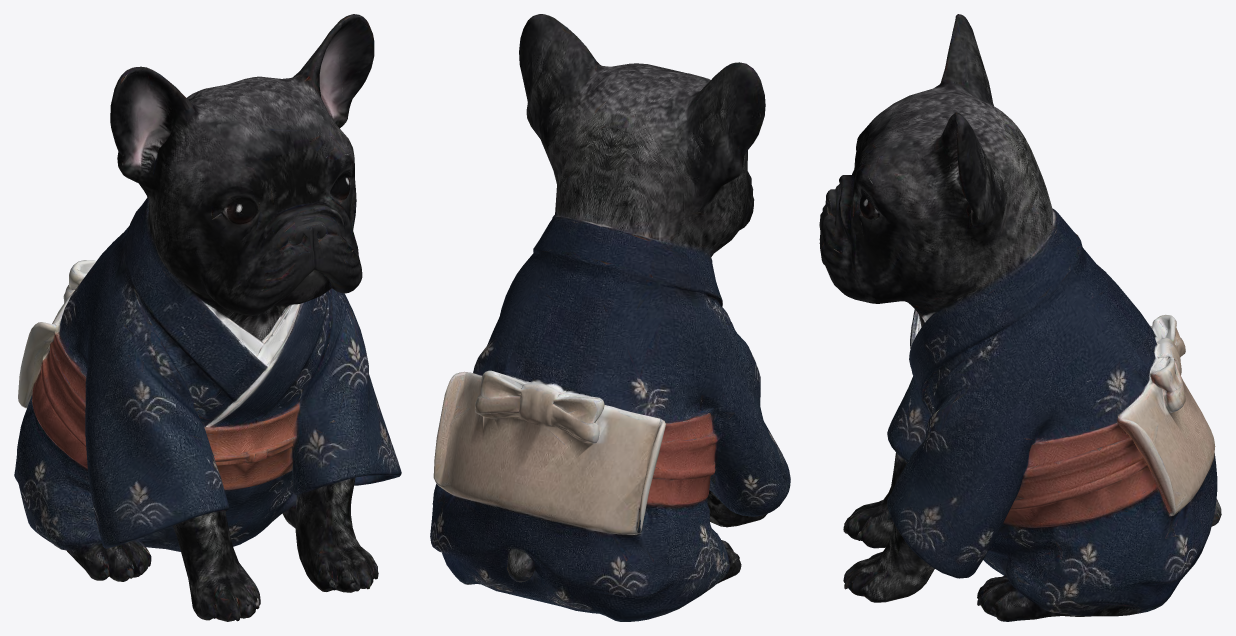
Rendered from costume-kimono_dog-frenchie-black.glb.
3 renders of one model, left to right at view 1: azimuth 30°, elevation 25°; view 2: azimuth 150°, elevation 25°; view 3: azimuth 270°, elevation 25°, orthographic. The views are drawn at different scales.
Parts seen in each view (by area): view 1: Mesh_0; view 2: Mesh_0; view 3: Mesh_0.
Boxes of the visible parts, x1,y1,x2,y2 form: Mesh_0: (14,14,401,621); Mesh_0: (430,14,790,621); Mesh_0: (819,14,1221,621).
Bounding box in the file's own units: 1.1 × 1.9 × 1.39.
1 material, 1 textured.
